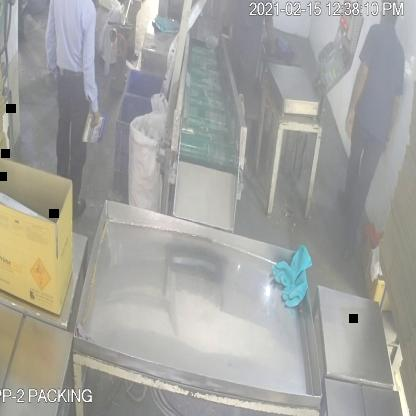no_glove: (75, 5, 104, 124), (342, 48, 367, 147), (384, 85, 403, 163), (264, 1, 278, 64)
